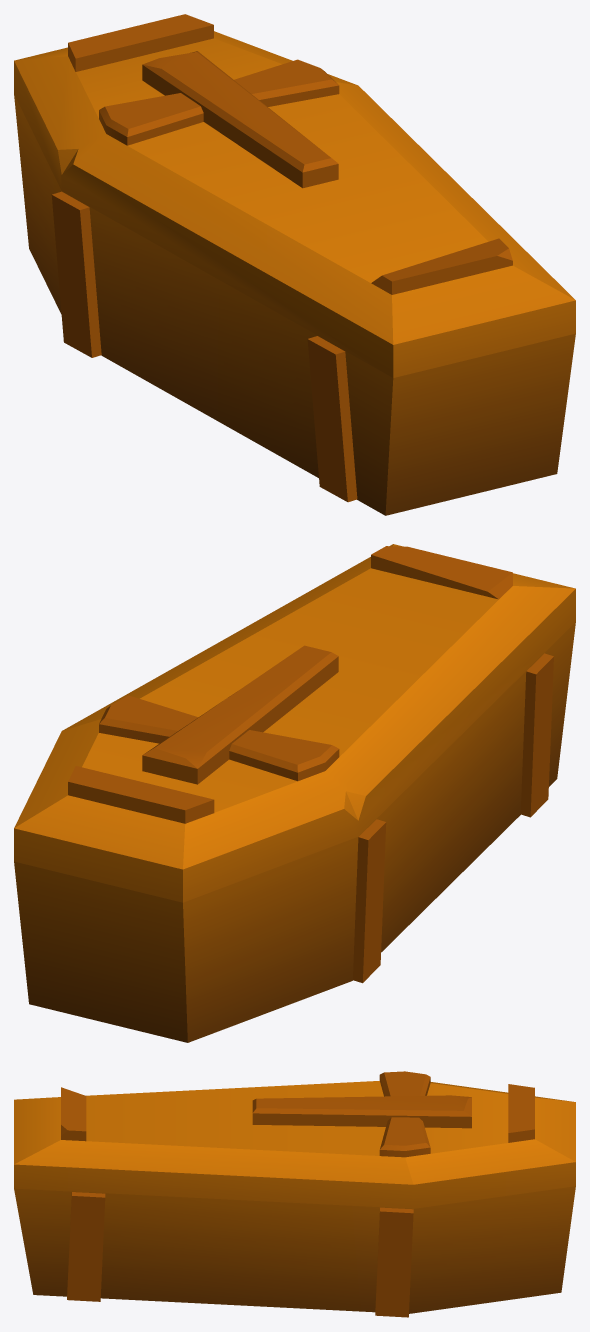
Rendered from Graveyard_Coffin_01.glb.
3 renders of one model, top to bottom at view 1: azimuth 30°, elevation 25°; view 2: azimuth 150°, elevation 25°; view 3: azimuth 270°, elevation 25°, orthographic. The views are drawn at different scales.
Parts seen in each view (by area): view 1: Graveyard_Coffin_01; view 2: Graveyard_Coffin_01; view 3: Graveyard_Coffin_01.
Boxes of the visible parts, x1,y1,x2,y2 form: Graveyard_Coffin_01: (14,14,575,515); Graveyard_Coffin_01: (14,544,575,1042); Graveyard_Coffin_01: (14,1071,575,1317).
Bounding box in the file's own units: 0.9791 × 0.6539 × 2.07.
1 material, 1 textured.
